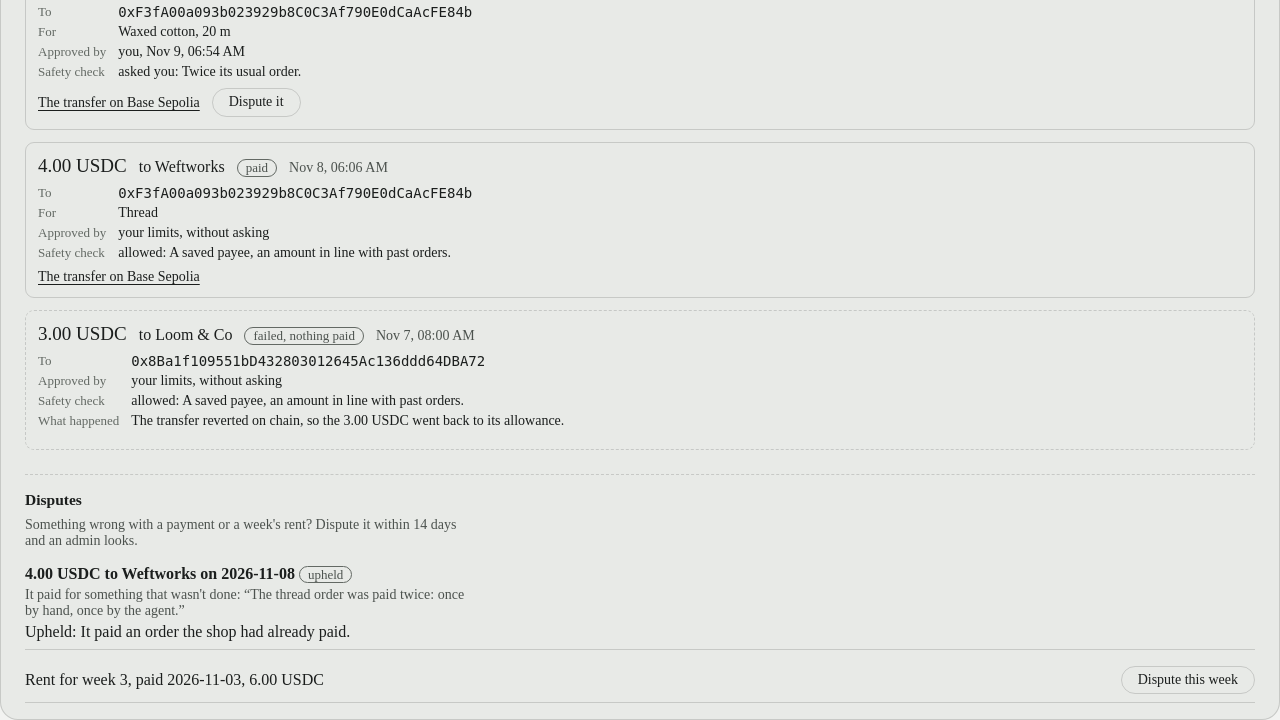
Scenario: the spending panel › disputes a week's rent, which is refunded if upheld
(page scrolled)
Click the button "Dispute this week".
click(1188, 680)  # box [1121,666,1255,694]
(page scrolled)
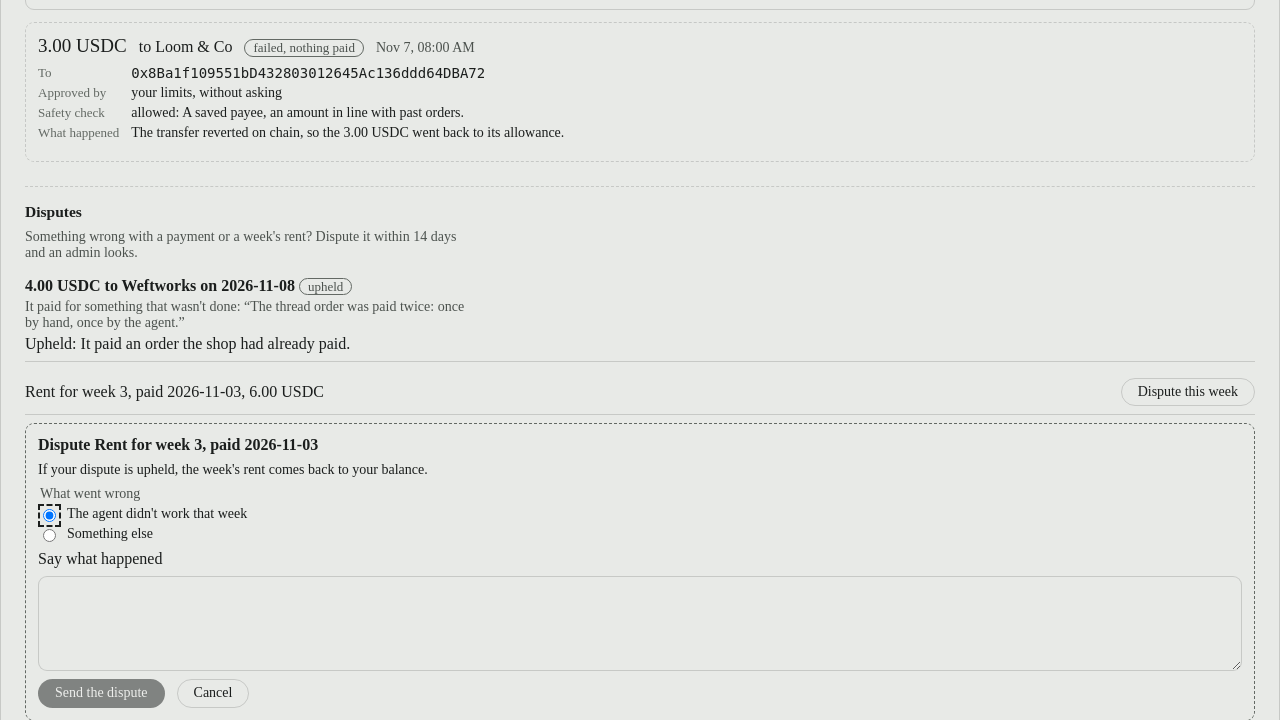
Check: the text "Dispute Rent for week 3, paid 2026-11-03" shows "If your dispute is upheld, the week's rent comes back to your balance.", box [38,462,428,477]
